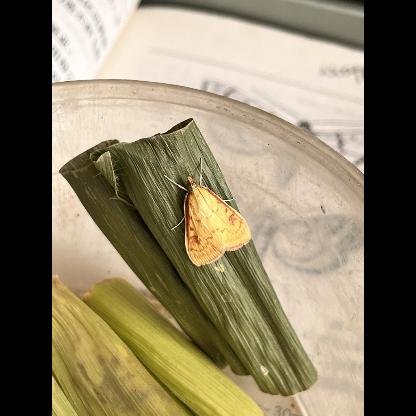Asian Corn Borer Moth: (162, 156, 252, 270)
